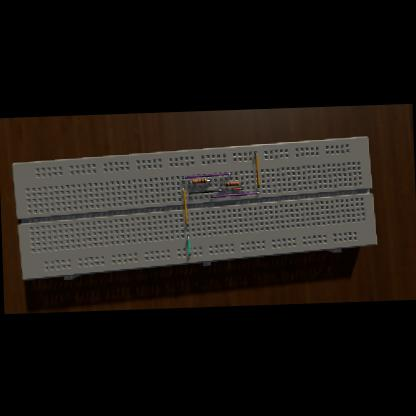breadboard: (11, 134, 377, 280)
resistor: (224, 180, 238, 186), (192, 178, 206, 184)
wire: (210, 191, 259, 197), (182, 171, 230, 177), (182, 187, 187, 225), (254, 152, 259, 187), (188, 189, 221, 193), (186, 234, 190, 254), (231, 187, 242, 189), (219, 184, 223, 186), (188, 181, 190, 182), (239, 182, 241, 182), (206, 180, 210, 180)
